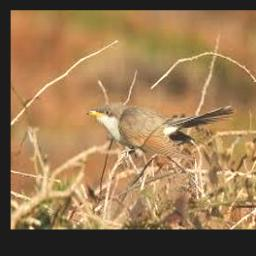Cuckoo: (84, 104, 233, 157)
